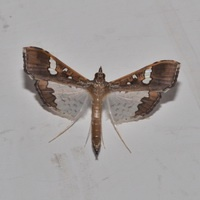insect: (23, 46, 179, 158)
